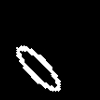chain: (16, 46, 60, 90)
